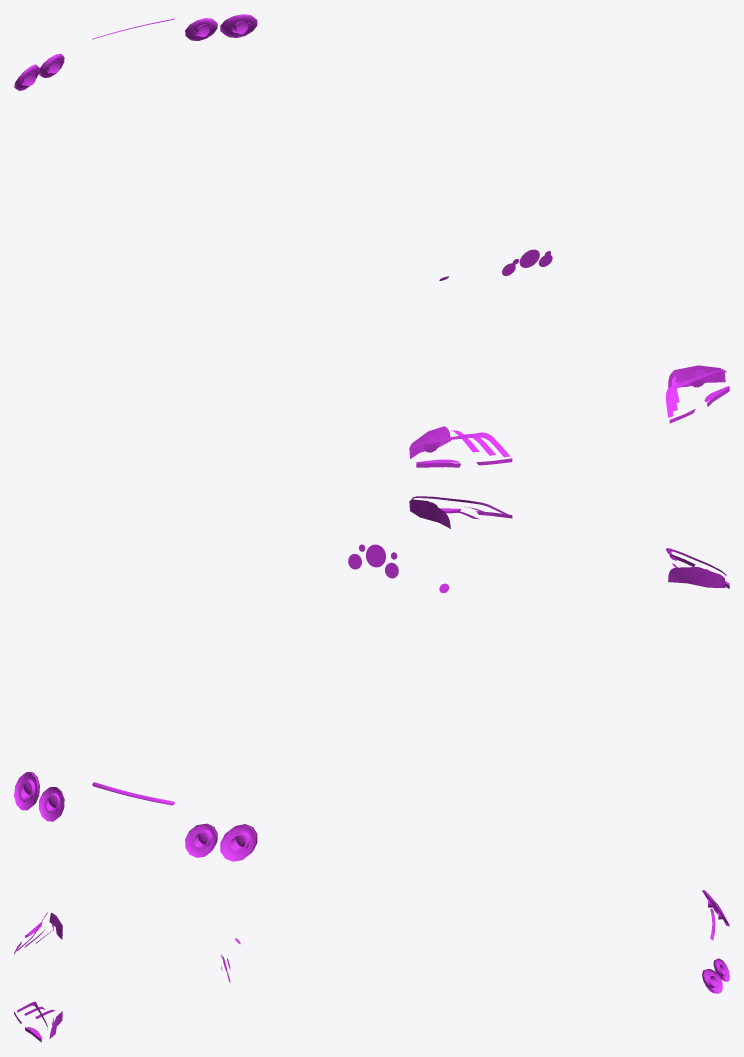
Rendered from Veyron_Chassis_Detail.fbx.
3 renders of one model, top to bottom at view 1: azimuth 30°, elevation 25°; view 2: azimuth 150°, elevation 25°; view 3: azimuth 270°, elevation 25°, orthographic. The views are drawn at different scales.
Parts seen in each view (by area): view 1: Veyron_Chassis_Detail; view 2: Veyron_Chassis_Detail; view 3: Veyron_Chassis_Detail.
Part boxes in pixels (left/top/right/bottom): Veyron_Chassis_Detail: left=14, top=14, right=729, bottom=467; Veyron_Chassis_Detail: left=14, top=496, right=729, bottom=861; Veyron_Chassis_Detail: left=14, top=890, right=729, bottom=1042.
Size of the model in its own units: 161 by 39.03 by 414.
